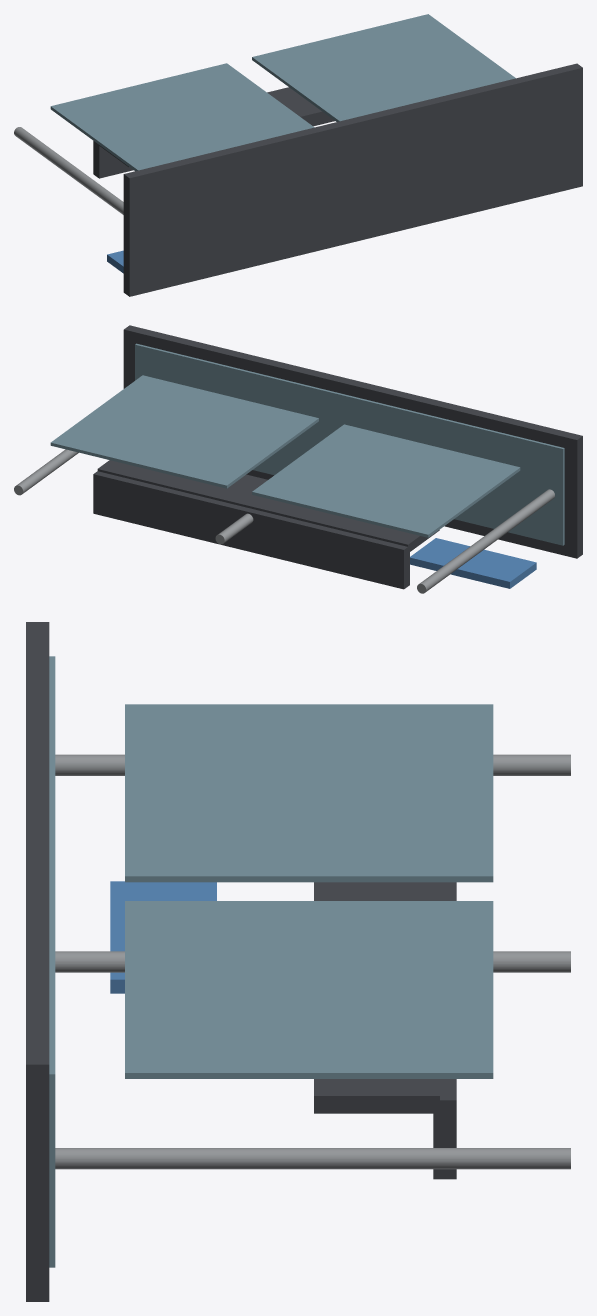
Rendered from SM_Yilan_BusShelter_HQ.glb.
3 renders of one model, top to bottom at view 1: azimuth 30°, elevation 25°; view 2: azimuth 150°, elevation 25°; view 3: azimuth 270°, elevation 25°, orthographic. The views are drawn at different scales.
Visible parts, largest first — view 1: roof_frame, glass_panel_-1.2, glass_panel_1.2, post_-2.4, bench_back, bench_seat; view 2: glass_roof, glass_panel_-1.2, glass_panel_1.2, bench_seat, roof_frame, bench_back, route_sign, post_-2.4, post_2.4, post_0; view 3: glass_panel_-1.2, glass_panel_1.2, roof_frame, post_2.4, bench_back, glass_roof, post_-2.4, post_0, route_sign, bench_seat.
Boxes of the visible parts, left/top/right/bottom form: roof_frame: left=123, top=63, right=582, bottom=296; glass_panel_-1.2: left=50, top=63, right=314, bottom=171; glass_panel_1.2: left=252, top=14, right=515, bottom=121; post_-2.4: left=14, top=127, right=123, bottom=214; bench_back: left=99, top=88, right=330, bottom=167; bench_seat: left=93, top=87, right=334, bottom=178; glass_roof: left=135, top=343, right=564, bottom=545; glass_panel_-1.2: left=252, top=424, right=520, bottom=537; glass_panel_1.2: left=50, top=375, right=318, bottom=488; bench_seat: left=93, top=471, right=409, bottom=589; roof_frame: left=123, top=325, right=582, bottom=558; bench_back: left=97, top=460, right=439, bottom=553; route_sign: left=410, top=538, right=536, bottom=588; post_-2.4: left=417, top=489, right=554, bottom=593; post_2.4: left=14, top=449, right=78, bottom=495; post_0: left=215, top=513, right=253, bottom=544; glass_panel_-1.2: left=125, top=704, right=493, bottom=882; glass_panel_1.2: left=125, top=901, right=493, bottom=1078; roof_frame: left=26, top=622, right=49, bottom=1301; post_2.4: left=55, top=1148, right=570, bottom=1169; bench_back: left=314, top=882, right=439, bottom=1113; glass_roof: left=49, top=656, right=55, bottom=1267; post_-2.4: left=55, top=754, right=570, bottom=775; post_0: left=55, top=951, right=570, bottom=972; route_sign: left=110, top=881, right=216, bottom=993; bench_seat: left=433, top=882, right=456, bottom=1179.
Bounding box in the file's own units: 5.4 × 1.42 × 2.81.
